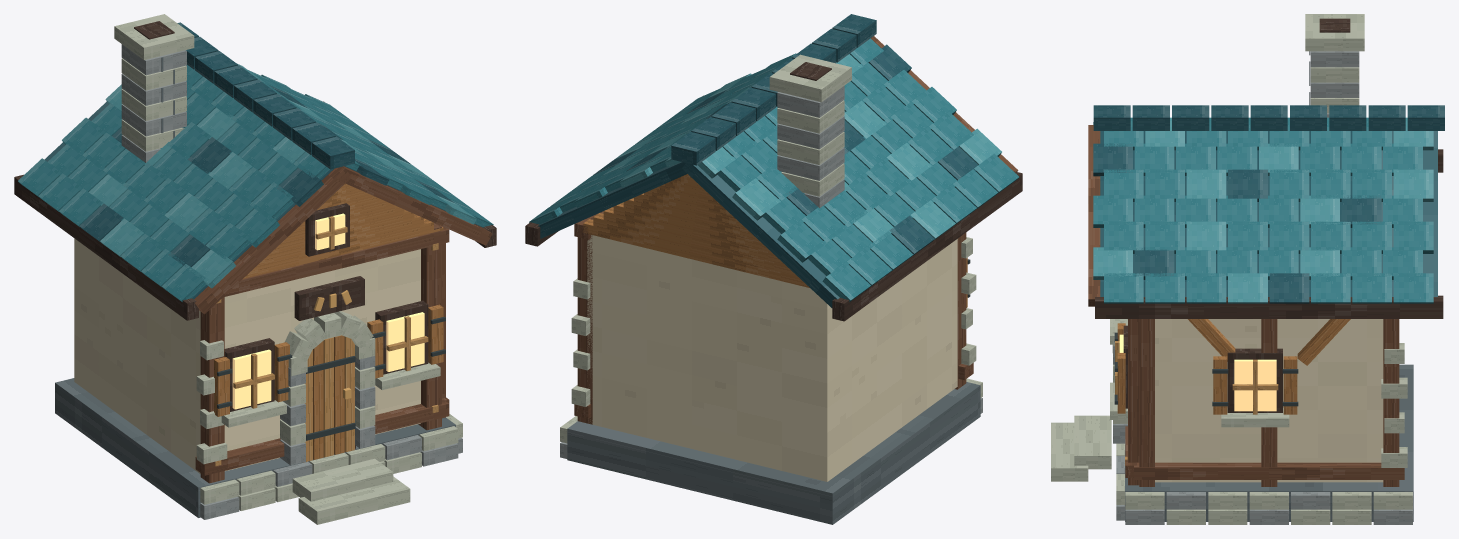
File: seed.glb
3 views of the same model, side by side, from view 1: azimuth 30°, elevation 25°; view 2: azimuth 150°, elevation 25°; view 3: azimuth 270°, elevation 25° (orthographic). The views are drawn at different scales.
Visible parts, largest first — view 1: teal_geometry, plaster_geometry, stone_light_geometry, wood_geometry, teal_dark_geometry, oak_geometry, wood_dark_geometry, stone_dark_geometry, stone_geometry, teal_light_geometry, oak_light_geometry, window_warm_geometry (+1 smaller); view 2: plaster_geometry, teal_geometry, stone_dark_geometry, teal_dark_geometry, oak_geometry, stone_light_geometry, teal_light_geometry, wood_dark_geometry, wood_geometry, stone_geometry; view 3: teal_geometry, plaster_geometry, teal_dark_geometry, stone_light_geometry, wood_geometry, teal_light_geometry, wood_dark_geometry, stone_geometry, stone_dark_geometry, oak_geometry, window_warm_geometry, oak_light_geometry (+1 smaller).
Boxes of the visible parts, bbox=[...] form: teal_geometry: bbox=[18, 65, 493, 301]; plaster_geometry: bbox=[74, 238, 420, 473]; stone_light_geometry: bbox=[114, 14, 462, 524]; wood_geometry: bbox=[194, 166, 492, 483]; teal_dark_geometry: bbox=[44, 22, 484, 299]; oak_geometry: bbox=[214, 183, 443, 459]; wood_dark_geometry: bbox=[14, 21, 496, 448]; stone_dark_geometry: bbox=[55, 57, 455, 517]; stone_geometry: bbox=[121, 44, 462, 519]; teal_light_geometry: bbox=[89, 64, 476, 288]; oak_light_geometry: bbox=[215, 216, 438, 466]; window_warm_geometry: bbox=[232, 213, 424, 409]; plaster_geometry: bbox=[587, 235, 957, 481]; teal_geometry: bbox=[529, 38, 1019, 301]; stone_dark_geometry: bbox=[567, 382, 980, 524]; teal_dark_geometry: bbox=[538, 14, 978, 307]; oak_geometry: bbox=[583, 174, 967, 307]; stone_light_geometry: bbox=[560, 54, 982, 443]; teal_light_geometry: bbox=[602, 54, 1001, 243]; wood_dark_geometry: bbox=[525, 62, 1022, 321]; wood_geometry: bbox=[574, 36, 1018, 424]; stone_geometry: bbox=[560, 86, 982, 458]; teal_geometry: bbox=[1093, 117, 1433, 303]; plaster_geometry: bbox=[1155, 319, 1383, 482]; teal_dark_geometry: bbox=[1093, 105, 1444, 303]; stone_light_geometry: bbox=[1051, 14, 1412, 524]; wood_geometry: bbox=[1088, 125, 1404, 486]; teal_light_geometry: bbox=[1093, 117, 1433, 303]; wood_dark_geometry: bbox=[1095, 18, 1443, 412]; stone_geometry: bbox=[1113, 51, 1412, 524]; stone_dark_geometry: bbox=[1125, 51, 1413, 521]; oak_geometry: bbox=[1117, 319, 1350, 414]; window_warm_geometry: bbox=[1119, 334, 1276, 411]; oak_light_geometry: bbox=[1115, 341, 1278, 465].
Bounding box in the file's own units: 3.42 × 4.16 × 3.71.
14 materials, 11 textured.
